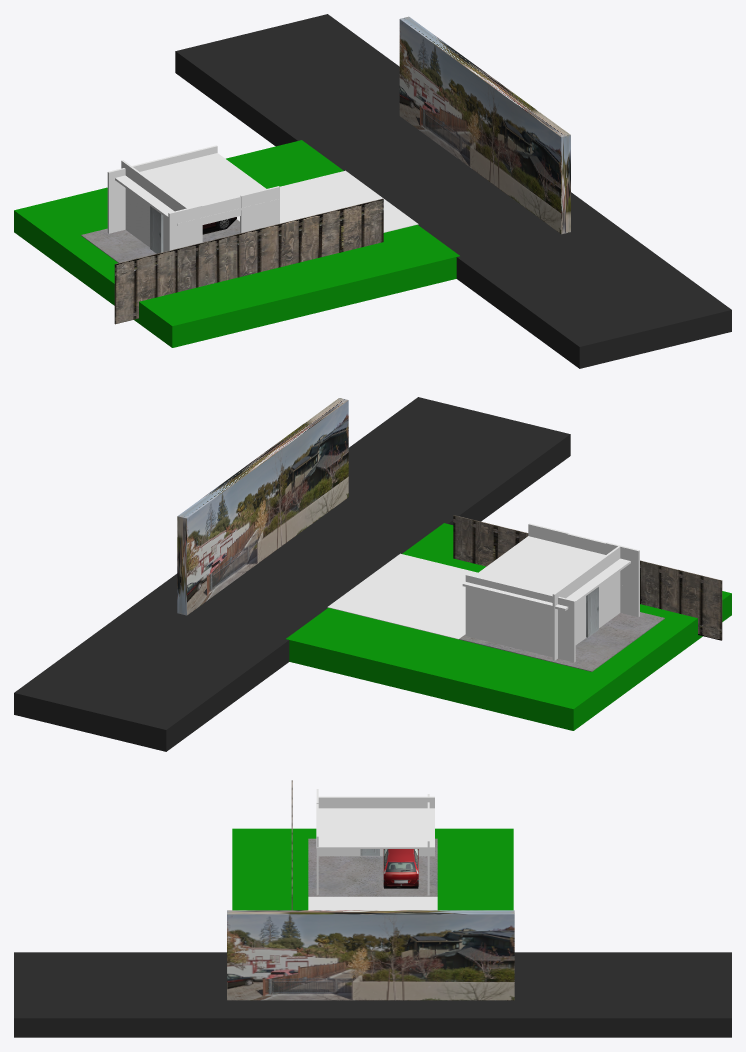
Rendered from garage_scene.fbx.
3 views of the same model, one above another, from view 1: azimuth 30°, elevation 25°; view 2: azimuth 150°, elevation 25°; view 3: azimuth 270°, elevation 25° (orthographic). The views are drawn at different scales.
Parts seen in each view (by area): view 1: Cube__11_, Cube__9_, Cube__12_, Cube__10_, ceiling, Cube__8_, Cube__6_, Cube__7_, Cube, Cube__1_, Cube__4_, Cube__3_ (+1 smaller); view 2: Cube__11_, Cube__9_, Cube__12_, Cube__8_, Cube__10_, Cube__7_, ceiling, Cube, Cube__6_, Cube__4_, Cube__3_; view 3: Cube__11_, Cube__12_, Cube__9_, ceiling, Cube, Cube__6_, Cube__8_, FuzzyRed.
Part boxes in pixels (x1,y1,x2,y2): Cube__11_: (175, 14, 731, 368); Cube__9_: (14, 140, 459, 347); Cube__12_: (399, 16, 570, 234); Cube__10_: (114, 198, 383, 324); ceiling: (115, 153, 279, 225); Cube__8_: (237, 170, 418, 232); Cube__6_: (121, 160, 189, 251); Cube__7_: (107, 145, 217, 233); Cube: (81, 219, 239, 262); Cube__1_: (240, 186, 279, 233); Cube__4_: (168, 205, 202, 250); Cube__3_: (202, 196, 240, 224); Cube__11_: (14, 397, 570, 751); Cube__9_: (286, 523, 731, 730); Cube__12_: (177, 398, 348, 615); Cube__8_: (327, 553, 477, 639); Cube__10_: (453, 515, 722, 640); Cube__7_: (465, 574, 575, 662); ceiling: (462, 536, 630, 610); Cube: (459, 612, 664, 671); Cube__6_: (552, 546, 620, 660); Cube__4_: (605, 542, 639, 617); Cube__3_: (559, 532, 632, 568); Cube__11_: (14, 952, 731, 1037); Cube__12_: (227, 910, 514, 1000); Cube__9_: (232, 828, 513, 910); ceiling: (316, 803, 434, 848); Cube: (308, 838, 437, 896); Cube__6_: (317, 796, 434, 856); Cube__8_: (308, 896, 437, 910); FuzzyRed: (383, 849, 418, 888).
Bounding box in the file's own units: 2199 × 621 × 3343.
